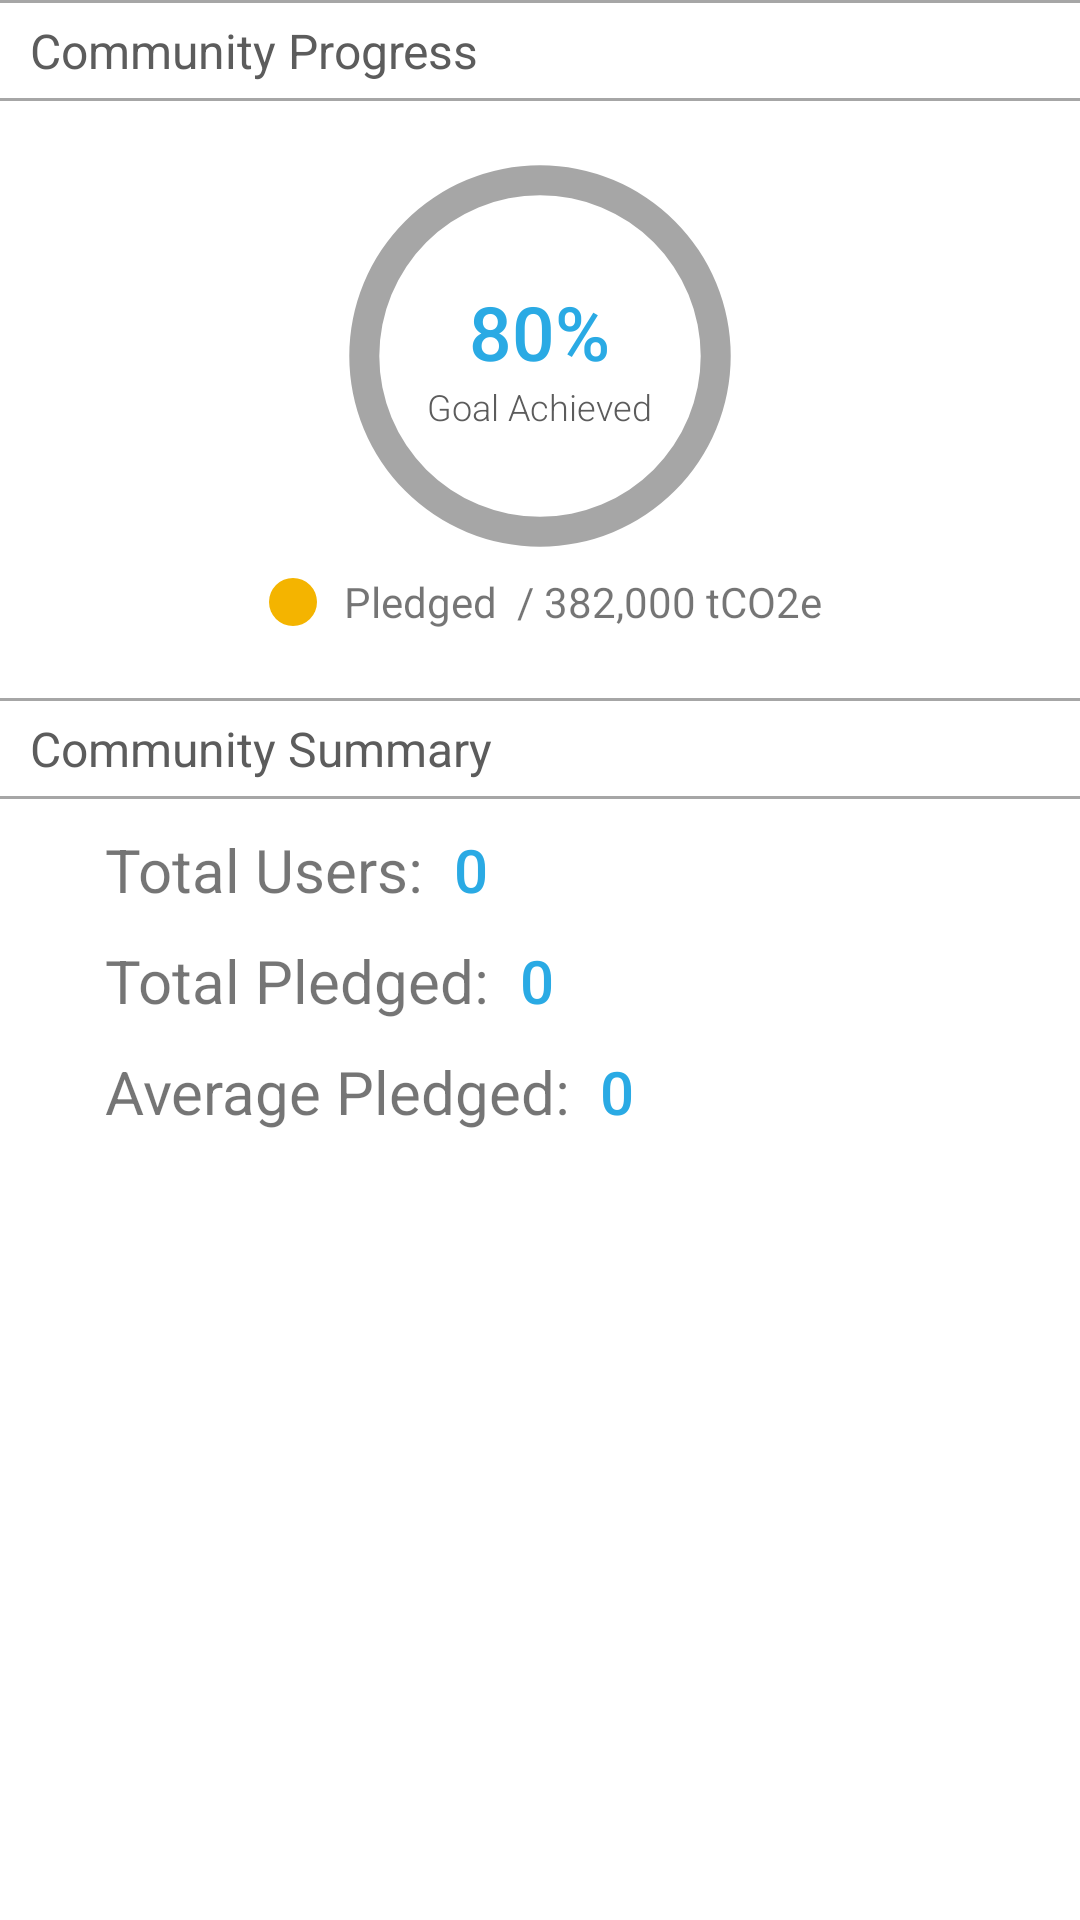

Screen size 1080 x 1920. Icon name, then its center in pixels as point (x, y):
fiber manual record: point (293, 602)
